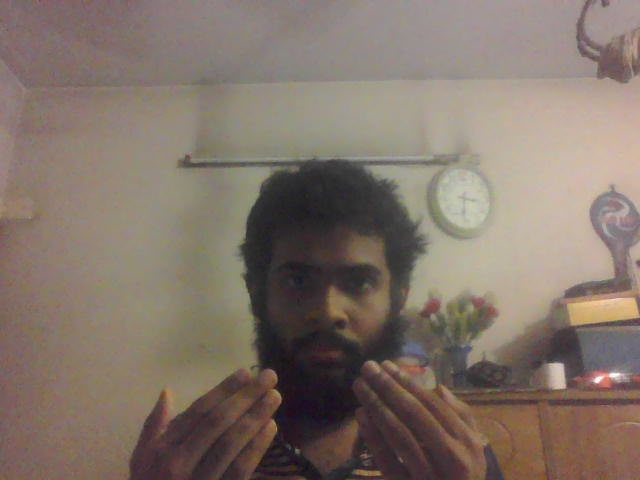Thank You: (119, 359, 510, 480)
